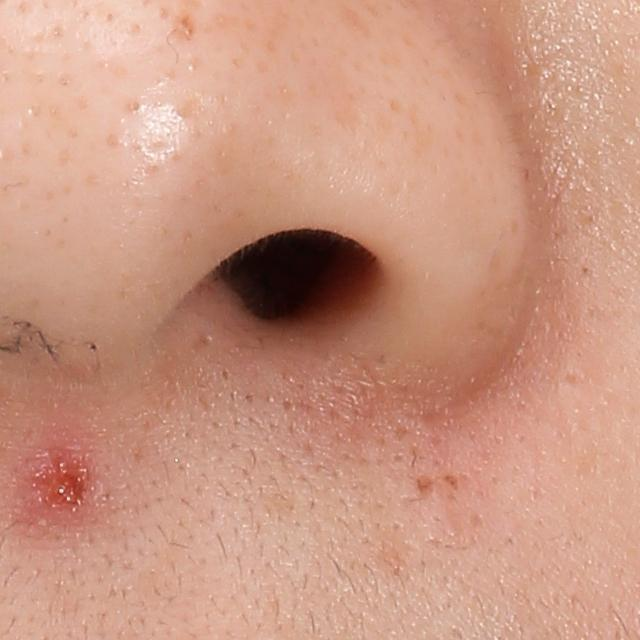atrophic_scar: (415, 474, 434, 497), (444, 474, 463, 490)
papule: (37, 459, 92, 514)
